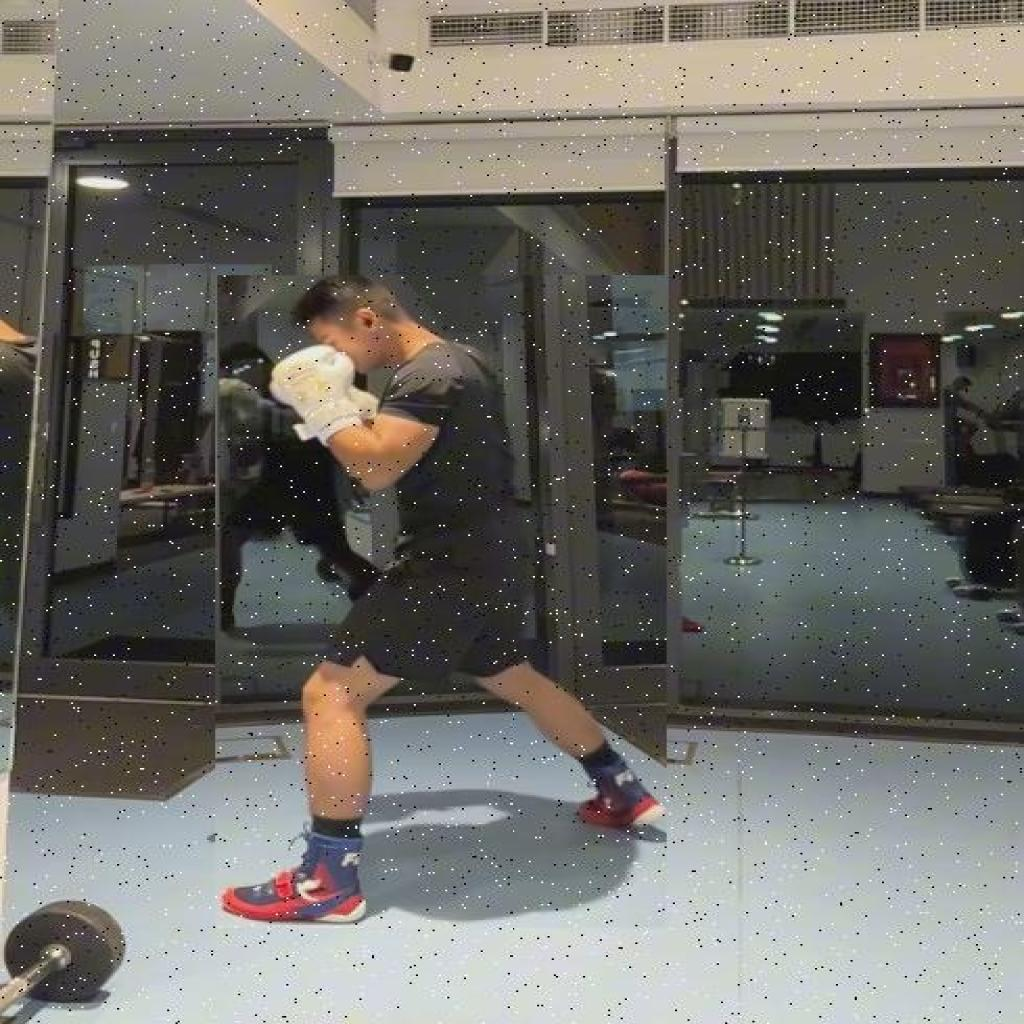no punch: (215, 275, 667, 929)
